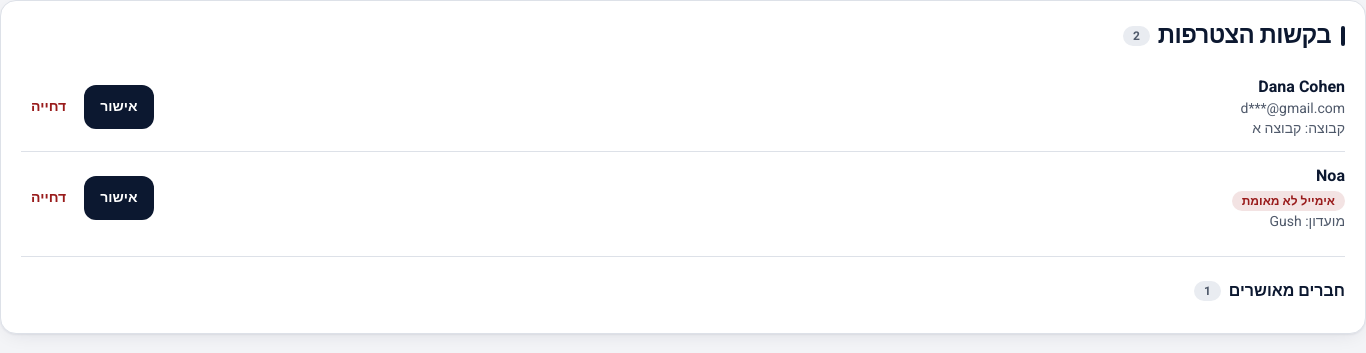
Test: MembershipRequests › approve moves the row into the members list
Click the button with aria-label "אישור הבקשה של Dana Cohen": x=119, y=107 [84,85,154,129]
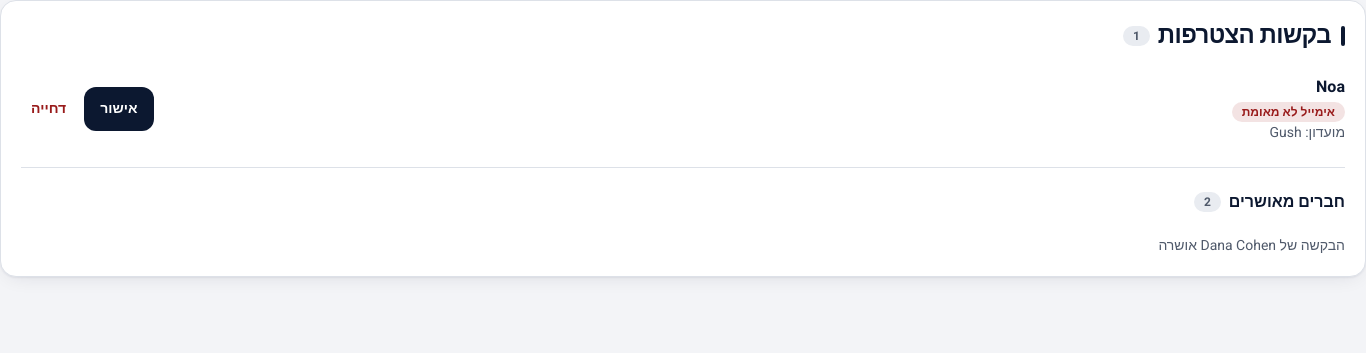
expect the message "הבקשה של Dana Cohen אושרה" is shown: met, box [1158,235,1345,256]
